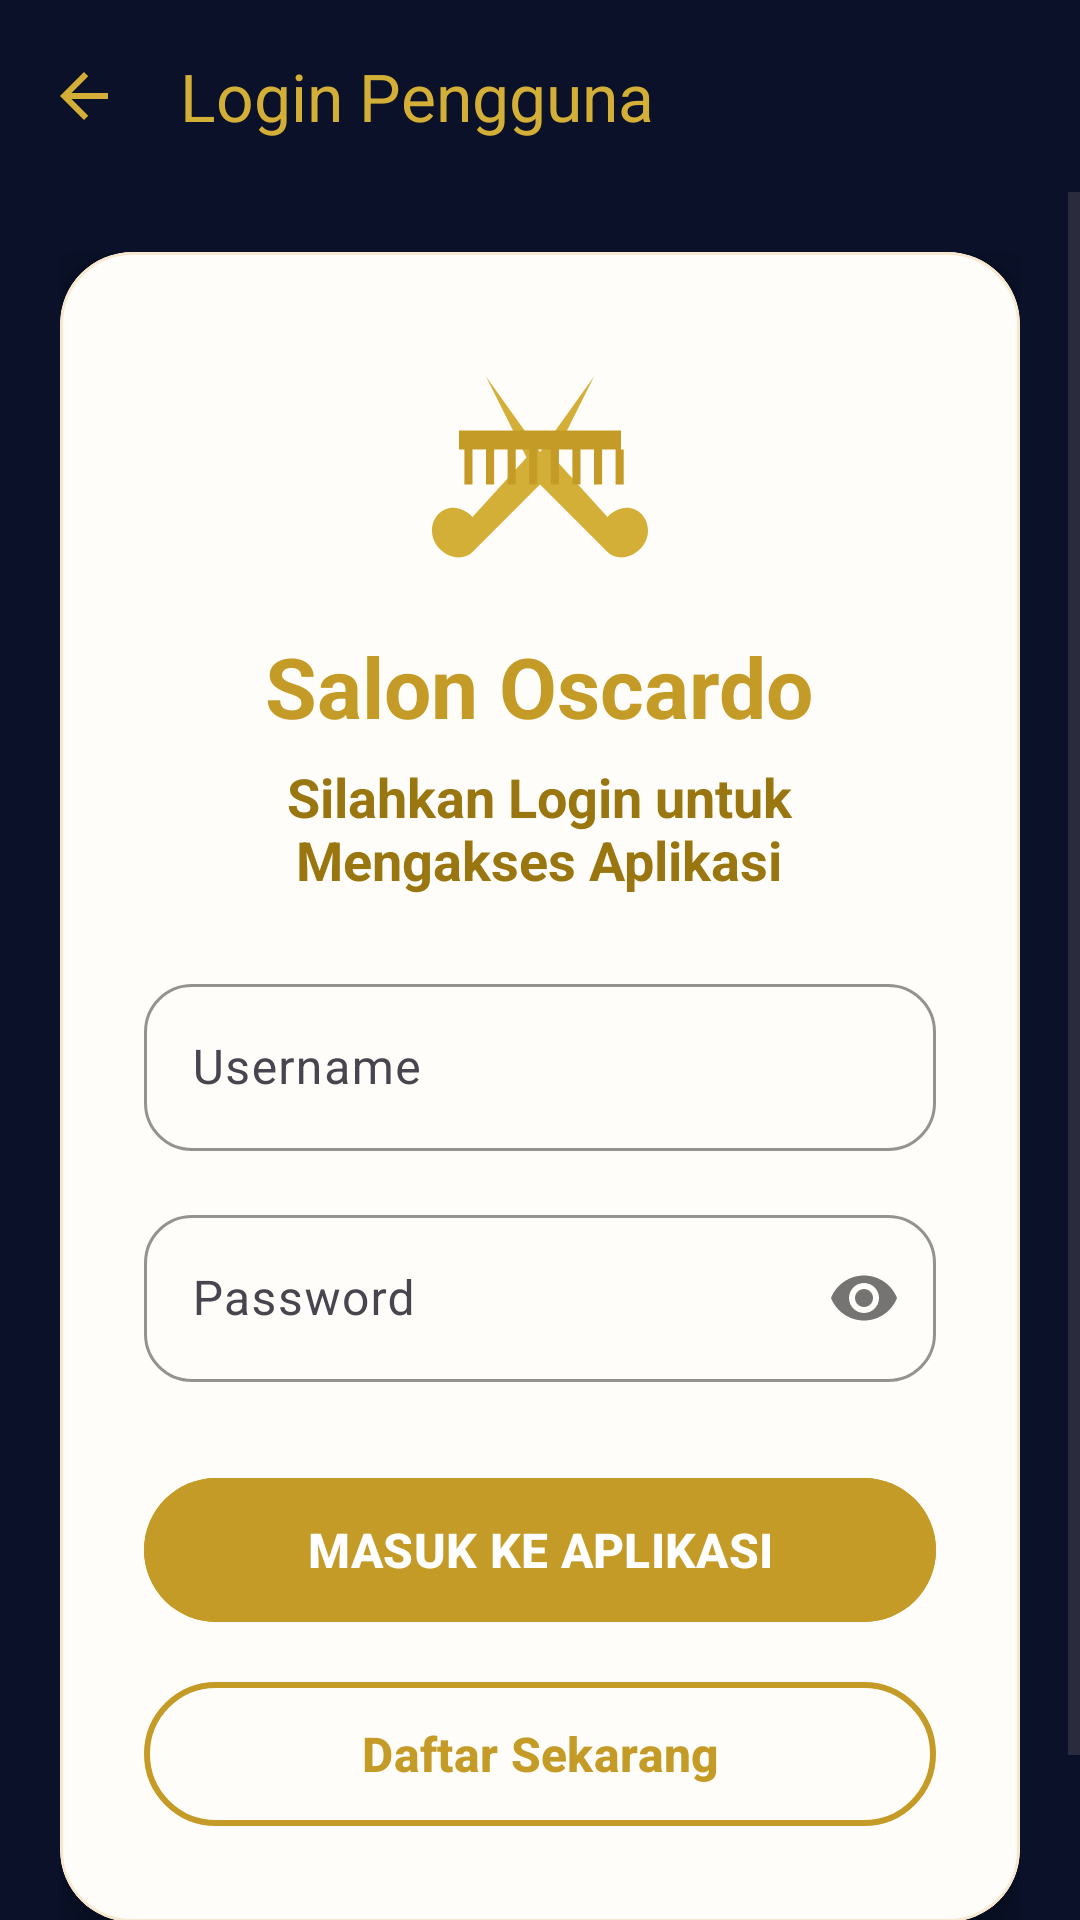

Icons on this 1080*1920 Android screen, each with the point to tap as [x,y]:
salon scissors comb: [540,467]
